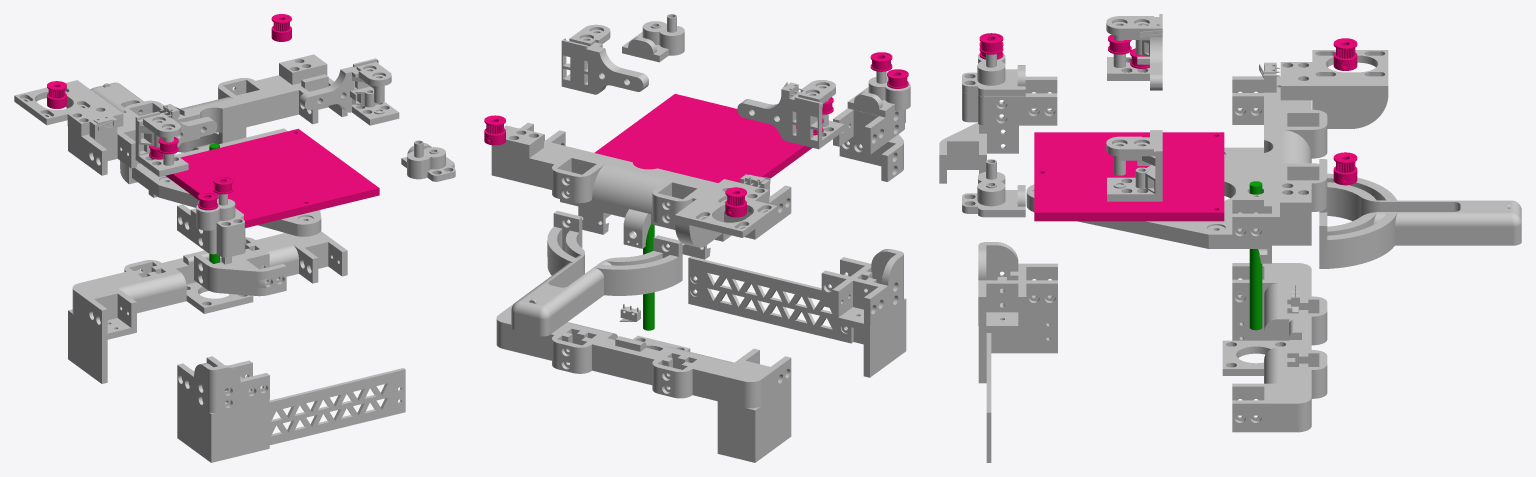
The model's file is CAD_RR.gltf.
3 renders of one model, left to right at view 1: azimuth 30°, elevation 25°; view 2: azimuth 150°, elevation 25°; view 3: azimuth 270°, elevation 25°, orthographic. The views are drawn at different scales.
Visible parts, largest first — view 1: V0_bed, back_bottom, back_top, skirt, foot_front, bottom_corner, y_carriage_left (Mirror #1), front_bar_mount, y_carriage, motor_mount_A, bed_frame, leg_back (+7 smaller); view 2: back_bottom, V0_bed, back_top, spool_holder, skirt, bottom_corner, leg_back, y_carriage, motor_mount_A, y_carriage_left (Mirror #1), foot_front, bed_frame (+8 smaller); view 3: V0_bed, back_bottom, spool_holder, back_top, motor_mount_A, bed_frame, bottom_corner, top_corner, y_carriage_left (Mirror #1), foot_front, front_bar_mount, y_carriage (+8 smaller).
Boxes of the visible parts, left/top/right/bottom form: V0_bed: left=165, top=128, right=379, bottom=227; back_bottom: left=72, top=231, right=347, bottom=334; back_top: left=68, top=74, right=347, bottom=175; skirt: left=269, top=368, right=405, bottom=445; foot_front: left=177, top=388, right=269, bottom=462; bottom_corner: left=177, top=356, right=269, bottom=412; y_carriage_left (Mirror #1): left=299, top=58, right=399, bottom=125; front_bar_mount: left=194, top=251, right=286, bottom=296; y_carriage: left=135, top=111, right=217, bottom=176; motor_mount_A: left=14, top=80, right=123, bottom=135; bed_frame: left=132, top=128, right=321, bottom=236; leg_back: left=68, top=309, right=136, bottom=383; back_bottom: left=496, top=304, right=791, bottom=408; V0_bed: left=594, top=94, right=812, bottom=182; back_top: left=491, top=122, right=791, bottom=239; spool_holder: left=511, top=210, right=682, bottom=336; skirt: left=688, top=256, right=853, bottom=343; bottom_corner: left=821, top=249, right=903, bottom=325; leg_back: left=717, top=384, right=791, bottom=462; y_carriage: left=737, top=80, right=844, bottom=149; motor_mount_A: left=675, top=179, right=777, bottom=247; y_carriage_left (Mirror #1): left=561, top=24, right=648, bottom=94; foot_front: left=821, top=298, right=906, bottom=377; bed_frame: left=560, top=190, right=731, bottom=259; V0_bed: left=1034, top=132, right=1224, bottom=221; back_bottom: left=1222, top=263, right=1327, bottom=432; spool_holder: left=1319, top=159, right=1521, bottom=268; back_top: left=1232, top=62, right=1327, bottom=245; motor_mount_A: left=1280, top=50, right=1388, bottom=128; bed_frame: left=1026, top=147, right=1271, bottom=263; bottom_corner: left=978, top=242, right=1057, bottom=325; top_corner: left=962, top=76, right=1057, bottom=125; y_carriage_left (Mirror #1): left=1106, top=130, right=1162, bottom=201; foot_front: left=978, top=295, right=1057, bottom=383; front_bar_mount: left=939, top=123, right=1018, bottom=183; y_carriage: left=1106, top=14, right=1162, bottom=90.
Bounding box in the file's own units: 228 × 239 × 368.
